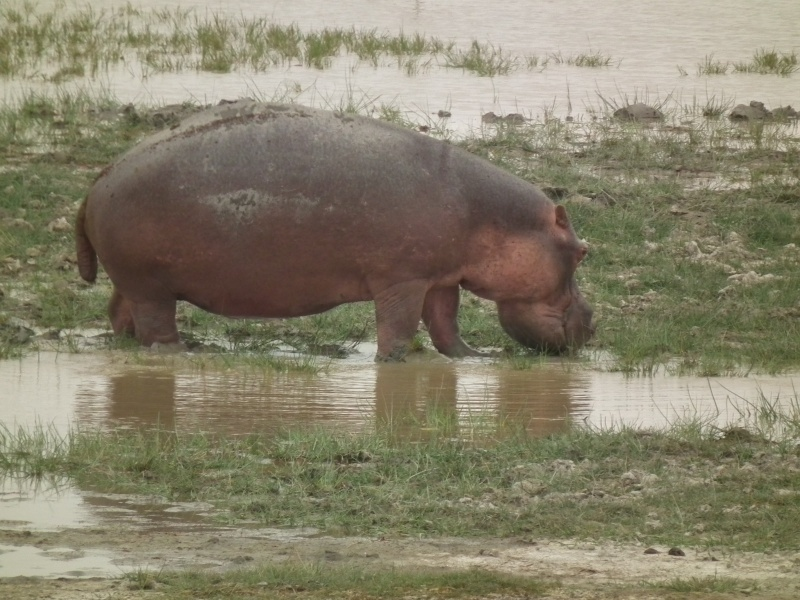hipopotamo: (62, 78, 606, 374)
